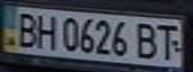0: (57, 15, 81, 53)
2: (93, 16, 115, 56)
6: (109, 18, 136, 58), (78, 16, 96, 55)
B: (9, 9, 42, 48), (133, 20, 163, 61)
H: (33, 11, 60, 51)
T: (154, 21, 184, 62)
